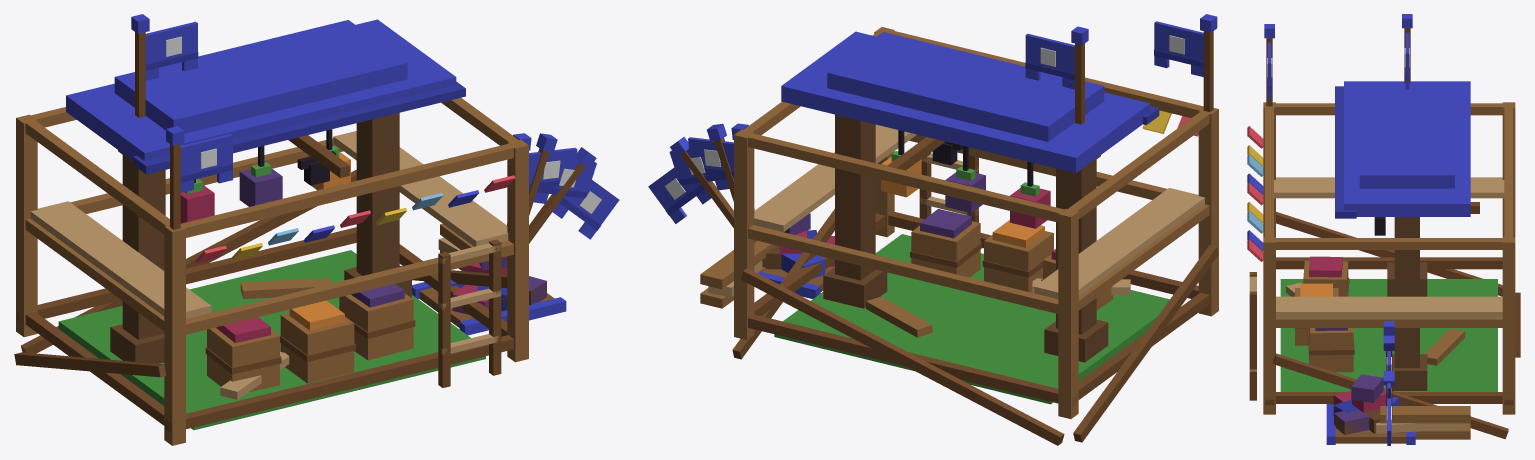
Rendered from bat-producer.glb.
3 renders of one model, left to right at view 1: azimuth 30°, elevation 25°; view 2: azimuth 150°, elevation 25°; view 3: azimuth 270°, elevation 25°, orthographic. The views are drawn at different scales.
Parts seen in each view (by area): view 1: scaffold-mesh, built-mesh, dismantle-75-mesh, dismantle-50-mesh, dismantle-25-mesh, banner, scaffold-banner, dismantle-25-banner, dismantle-50-banner, flag-pole, scaffold-flag-pole, dismantle-75-banner (+2 smaller); view 2: scaffold-mesh, built-mesh, dismantle-75-mesh, dismantle-50-mesh, dismantle-25-mesh, scaffold-banner, banner, dismantle-25-banner, dismantle-50-banner, scaffold-flag-pole, dismantle-75-banner, flag-pole (+2 smaller); view 3: scaffold-mesh, built-mesh, dismantle-50-mesh, dismantle-75-mesh, dismantle-25-mesh, scaffold-flag-pole, flag-pole, banner, scaffold-banner.
Boxes of the visible parts, box(x1,y1,x2,y2) form: scaffold-mesh: box(14, 98, 528, 445); built-mesh: box(58, 19, 465, 429); dismantle-75-mesh: box(135, 122, 566, 380); dismantle-50-mesh: box(111, 194, 566, 399); dismantle-25-mesh: box(135, 256, 566, 399); banner: box(145, 21, 198, 80); scaffold-banner: box(180, 133, 232, 192); dismantle-25-banner: box(553, 173, 619, 239); dismantle-50-banner: box(533, 156, 596, 208); flag-pole: box(131, 14, 149, 117); scaffold-flag-pole: box(166, 126, 184, 229); dismantle-75-banner: box(529, 147, 577, 191); scaffold-mesh: box(700, 27, 1218, 445); built-mesh: box(781, 31, 1159, 403); dismantle-75-mesh: box(758, 124, 1081, 333); dismantle-50-mesh: box(762, 187, 1130, 339); dismantle-25-mesh: box(762, 213, 1130, 337); scaffold-banner: box(1154, 21, 1203, 76); banner: box(1025, 33, 1074, 89); dismantle-25-banner: box(648, 161, 711, 223); dismantle-50-banner: box(669, 146, 729, 194); scaffold-flag-pole: box(1200, 14, 1217, 112); dismantle-75-banner: box(688, 137, 733, 178); flag-pole: box(1071, 26, 1088, 124); scaffold-mesh: box(1247, 102, 1520, 439); built-mesh: box(1294, 81, 1479, 367); dismantle-50-mesh: box(1286, 260, 1427, 444); dismantle-75-mesh: box(1295, 256, 1427, 444); dismantle-25-mesh: box(1286, 284, 1465, 443); scaffold-flag-pole: box(1264, 24, 1274, 106); flag-pole: box(1402, 14, 1412, 83); banner: box(1404, 32, 1409, 89); scaffold-banner: box(1267, 42, 1272, 99).
Bounding box in the file's own units: 2.72 × 1.85 × 1.51.
